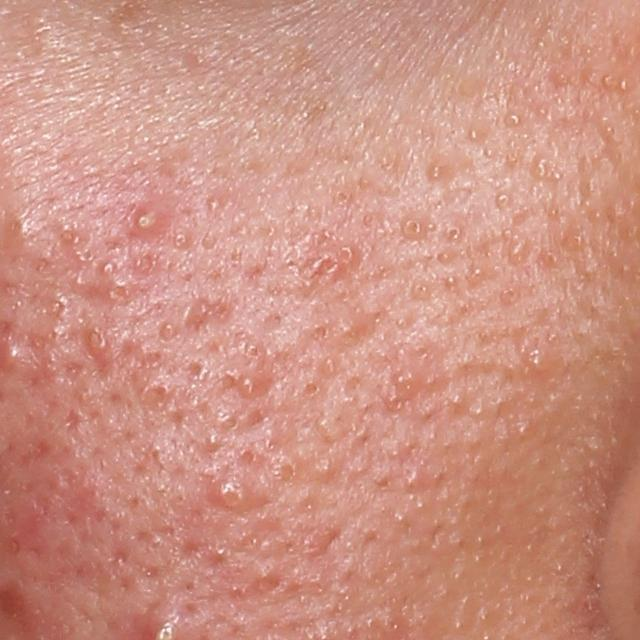atrophic_scar: (177, 298, 239, 339)
comedo: (332, 314, 373, 349), (55, 221, 85, 251), (401, 465, 430, 492), (299, 378, 324, 404), (217, 410, 243, 434), (560, 229, 587, 252), (399, 216, 423, 241), (507, 237, 530, 263), (315, 458, 337, 482), (245, 340, 267, 364), (367, 58, 389, 80), (412, 280, 435, 301), (534, 156, 552, 181), (446, 389, 466, 411), (171, 232, 191, 254), (443, 224, 463, 243), (204, 433, 224, 452), (333, 188, 352, 208), (428, 162, 447, 181), (100, 259, 117, 277), (160, 321, 177, 339), (496, 190, 512, 209), (206, 196, 223, 213), (445, 272, 460, 288), (506, 112, 520, 128), (618, 77, 630, 92)
papule: (389, 364, 423, 401), (80, 325, 116, 359)
pustule: (127, 203, 171, 241), (211, 476, 252, 513)
